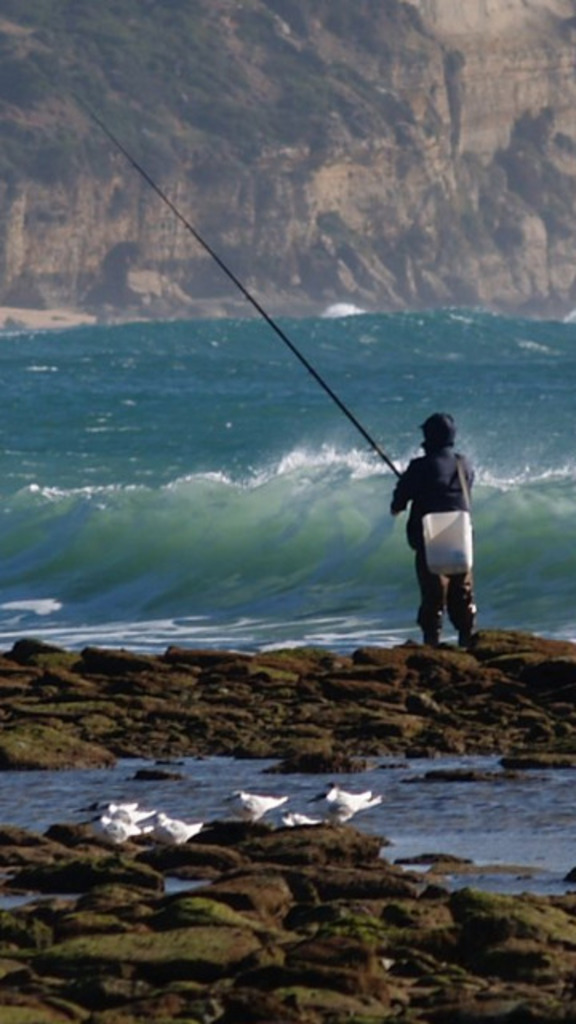Person: (390, 412, 478, 649)
